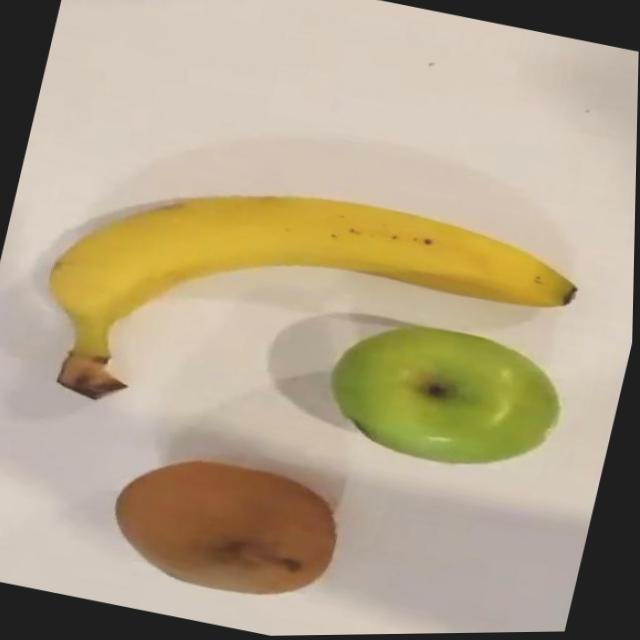Apple: (317, 308, 577, 490)
Banana: (23, 142, 591, 496)
